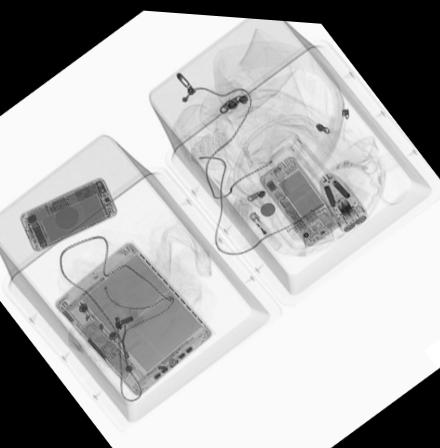Lighter: (246, 206, 281, 246)
